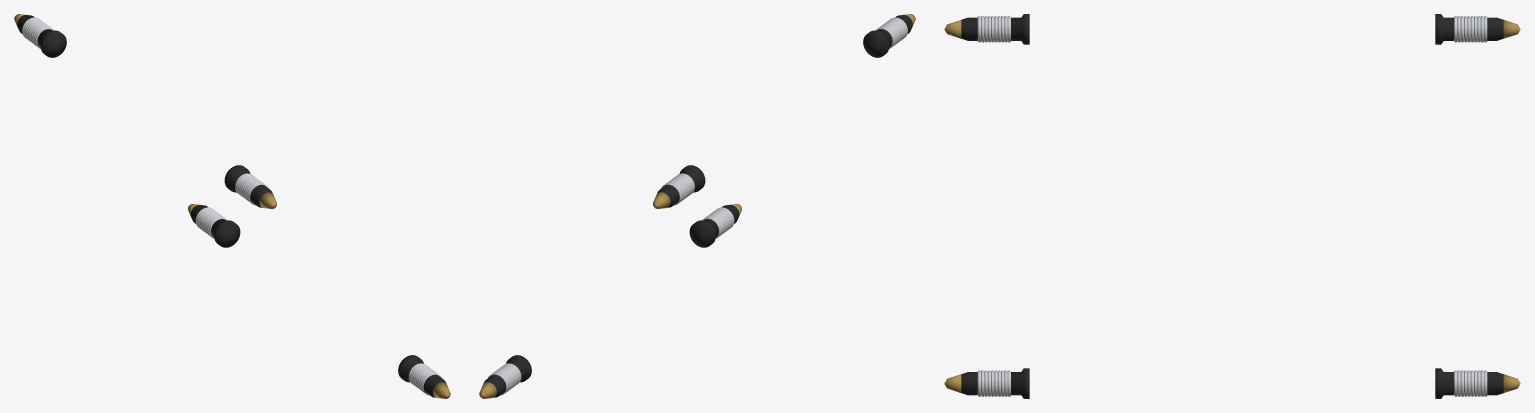
Rendered from race.glb.
3 renders of one model, left to right at view 1: azimuth 30°, elevation 25°; view 2: azimuth 150°, elevation 25°; view 3: azimuth 270°, elevation 25°, orthographic. The views are drawn at different scales.
Parts seen in each view (by area): view 1: pegs_race; view 2: pegs_race; view 3: pegs_race.
Part boxes in pixels (left/top/right/bottom): pegs_race: left=14, top=14, right=450, bottom=398; pegs_race: left=479, top=14, right=915, bottom=398; pegs_race: left=944, top=14, right=1520, bottom=398.
Size of the model in its own units: 0.216 by 0.269 by 0.489.
